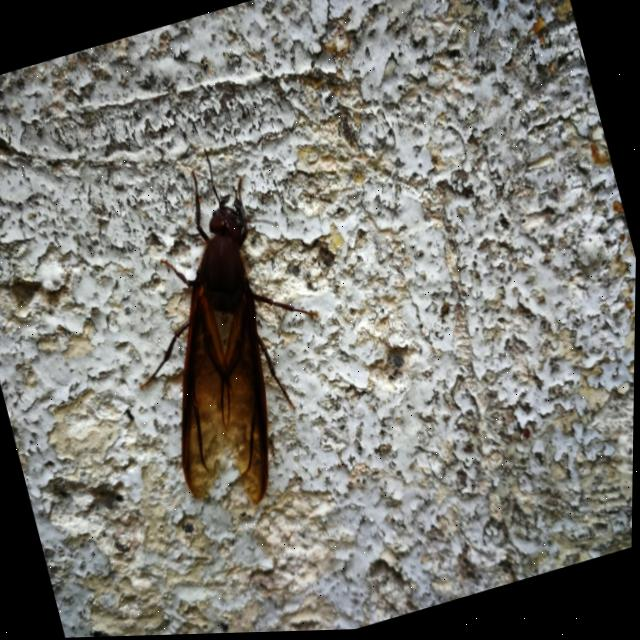Alive-Male-Alate: (83, 127, 366, 531)
